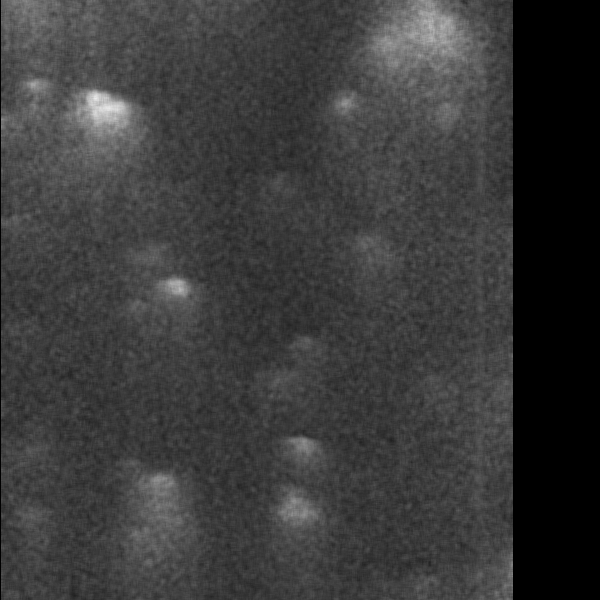spark: (375, 1, 484, 149), (128, 467, 179, 600), (67, 84, 126, 170), (271, 481, 316, 556), (155, 276, 200, 318), (118, 241, 187, 268), (332, 87, 362, 143), (284, 433, 316, 482)
